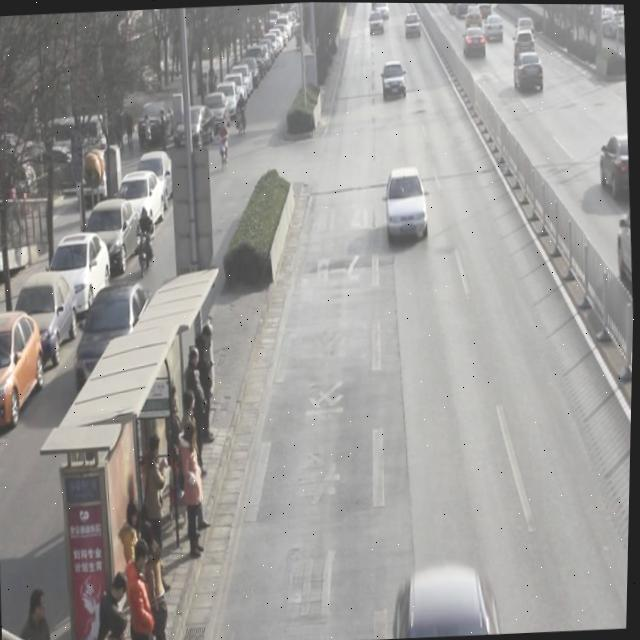car: (70, 281, 160, 408), (383, 164, 432, 245), (614, 196, 636, 297), (598, 132, 631, 199), (513, 50, 546, 94), (382, 59, 408, 102), (463, 23, 488, 60), (485, 12, 506, 44), (512, 30, 537, 55), (404, 10, 422, 38), (369, 9, 385, 34), (465, 3, 482, 24), (515, 14, 532, 32), (374, 2, 388, 21)
